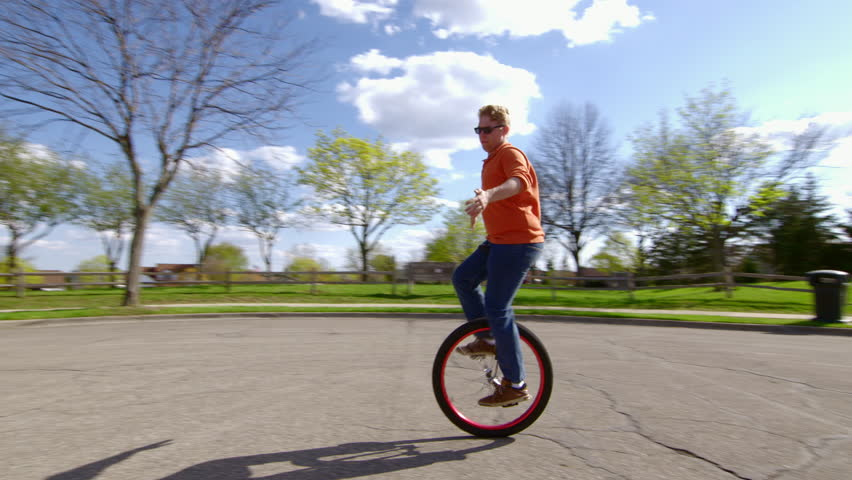wheel: (435, 316, 555, 440)
